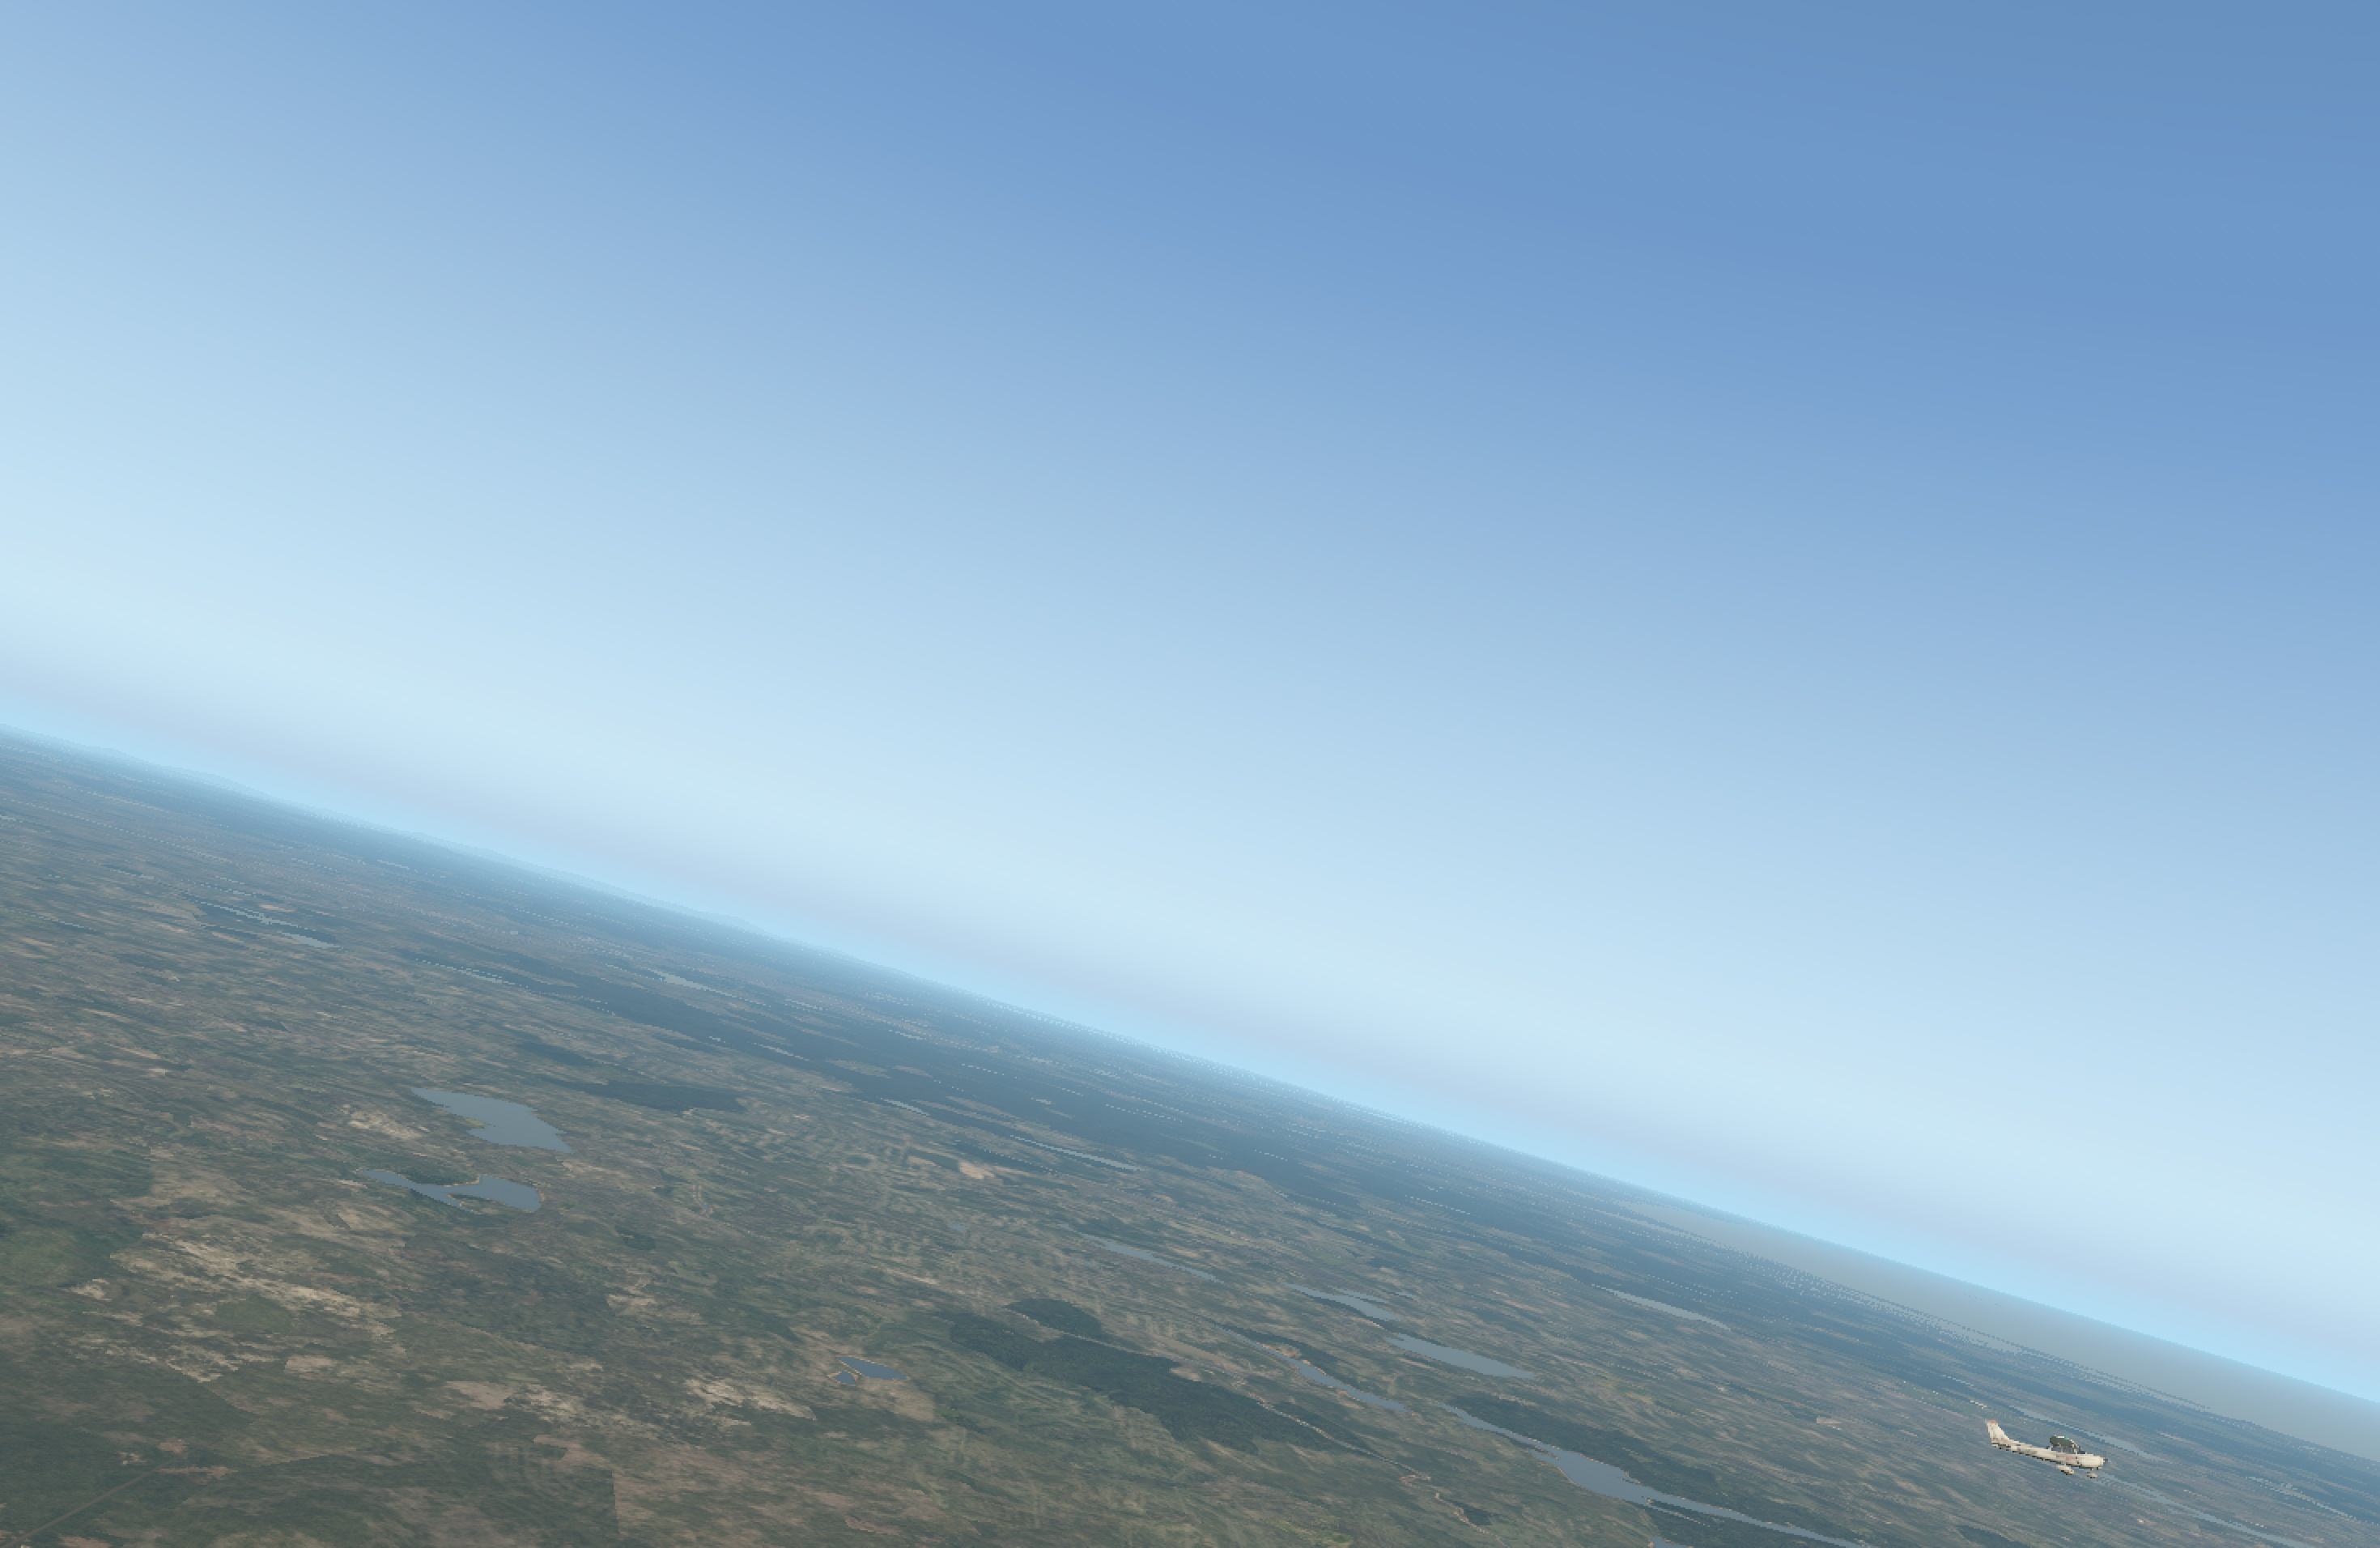aircraft: (2023, 1437, 2122, 1473)
